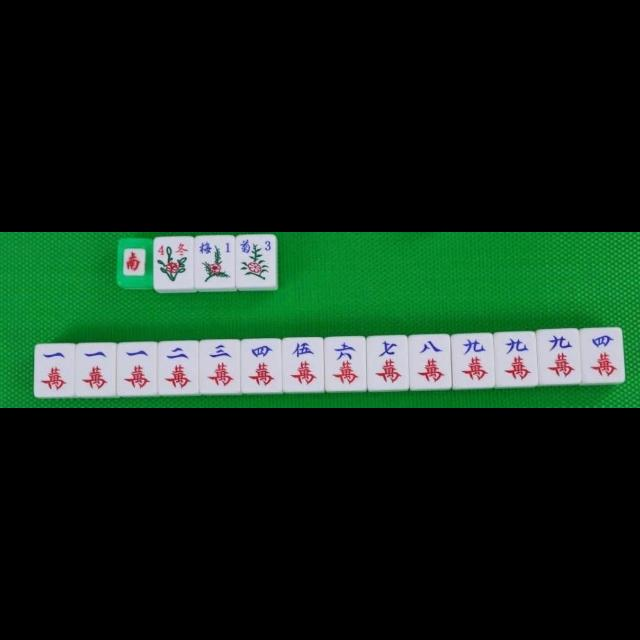c1: (35, 344, 75, 398), (76, 344, 116, 396), (117, 343, 157, 395)
c2: (158, 342, 200, 394)
c3: (200, 341, 242, 391)
c4: (242, 340, 284, 392), (582, 331, 622, 384)
c5: (284, 338, 324, 394)
c6: (326, 338, 364, 390)
c7: (368, 337, 408, 389)
c8: (410, 336, 452, 389)
c9: (496, 332, 538, 384), (452, 335, 493, 387), (541, 331, 581, 384)
f1: (198, 236, 236, 258)
f3: (238, 236, 274, 258)
s4: (154, 238, 193, 260)
